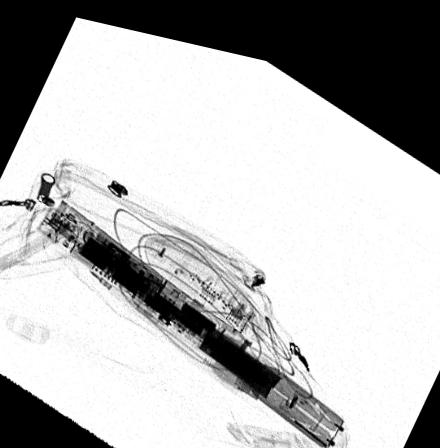Baton: (36, 202, 348, 436), (47, 196, 252, 356)
